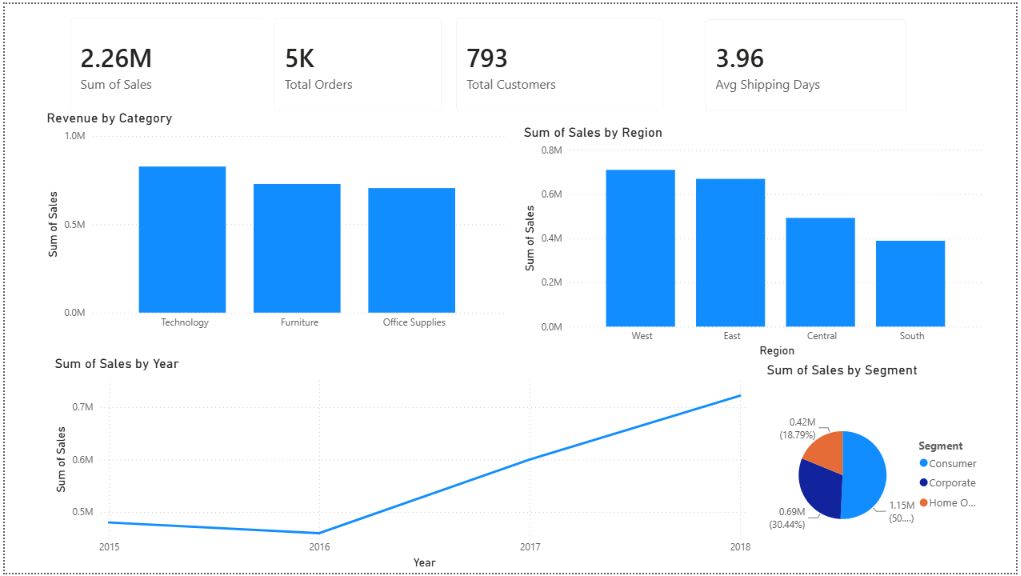

This screenshot's page, from the dashboard's own definition file:
{"tool":"powerbi","page":{"name":"Page 1","canvas":[1280,720],"ordinal":0},"visuals":[{"type":"cardVisual","fields":{"Data":["Sum(superstore_cleaned.Sales)"]},"box":[65.9,1.4,278.6,152.3],"z":0},{"type":"clusteredColumnChart","title":"Revenue by Category","fields":{"Category":["superstore_cleaned.Category"],"Y":["Sum(superstore_cleaned.Sales)"]},"box":[48,134.5,591.4,300.5],"z":6001},{"type":"clusteredColumnChart","fields":{"Category":["superstore_cleaned.Region"],"Y":["Sum(superstore_cleaned.Sales)"]},"box":[651.8,152.3,592.8,300.5],"z":6002},{"type":"lineChart","fields":{"Category":["superstore_cleaned.Order Date.Variation.Date Hierarchy.Year","superstore_cleaned.Order Date.Variation.Date Hierarchy.Quarter","superstore_cleaned.Order Date.Variation.Date Hierarchy.Month","superstore_cleaned.Order Date.Variation.Date Hierarchy.Day"],"Y":["Sum(superstore_cleaned.Sales)"]},"box":[57.6,444.6,890.6,275.8],"z":6003},{"type":"pieChart","fields":{"Category":["superstore_cleaned.Segment"],"Y":["Sum(superstore_cleaned.Sales)"]},"box":[959.2,452.8,285.4,267.6],"z":6004},{"type":"cardVisual","fields":{"Data":["superstore_cleaned.Total Orders"]},"box":[323.8,1.4,247,152.3],"z":6005},{"type":"cardVisual","fields":{"Data":["superstore_cleaned.Total Customers"]},"box":[554.4,1.4,296.4,152.3],"z":6006},{"type":"cardVisual","fields":{"Data":["superstore_cleaned.Avg Shipping Days"]},"box":[870,2.7,289.5,150.9],"z":6007}]}

Visuals, with their boxes in screenshot pixels (x1, y1, x2, y2), scaled from the page's 1280x720 canvas onto the 1021x576 screenshot:
cardVisual - Sum(superstore_cleaned.Sales): 53, 1, 275, 123
"Revenue by Category" clusteredColumnChart: 38, 108, 510, 348
clusteredColumnChart - superstore_cleaned.Region x Sum(superstore_cleaned.Sales): 520, 122, 993, 362
lineChart - superstore_cleaned.Order Date.Variation.Date Hierarchy.Year x superstore_cleaned.Order Date.Variation.Date Hierarchy.Quarter: 46, 356, 756, 575
pieChart - superstore_cleaned.Segment x Sum(superstore_cleaned.Sales): 765, 362, 993, 575
cardVisual - superstore_cleaned.Total Orders: 258, 1, 455, 123
cardVisual - superstore_cleaned.Total Customers: 442, 1, 679, 123
cardVisual - superstore_cleaned.Avg Shipping Days: 694, 2, 925, 123
